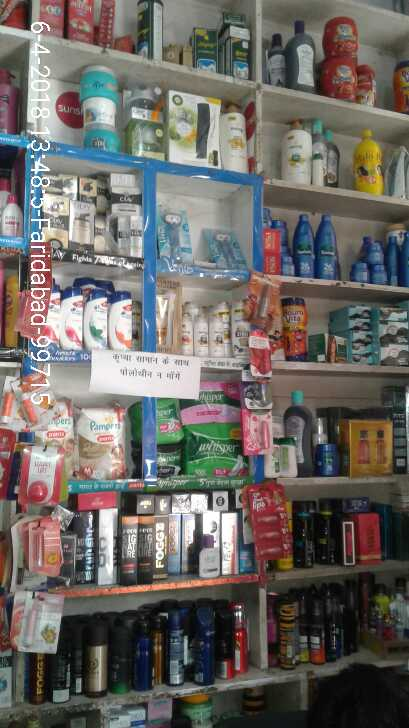venus: (156, 202, 193, 264), (202, 229, 248, 269)
